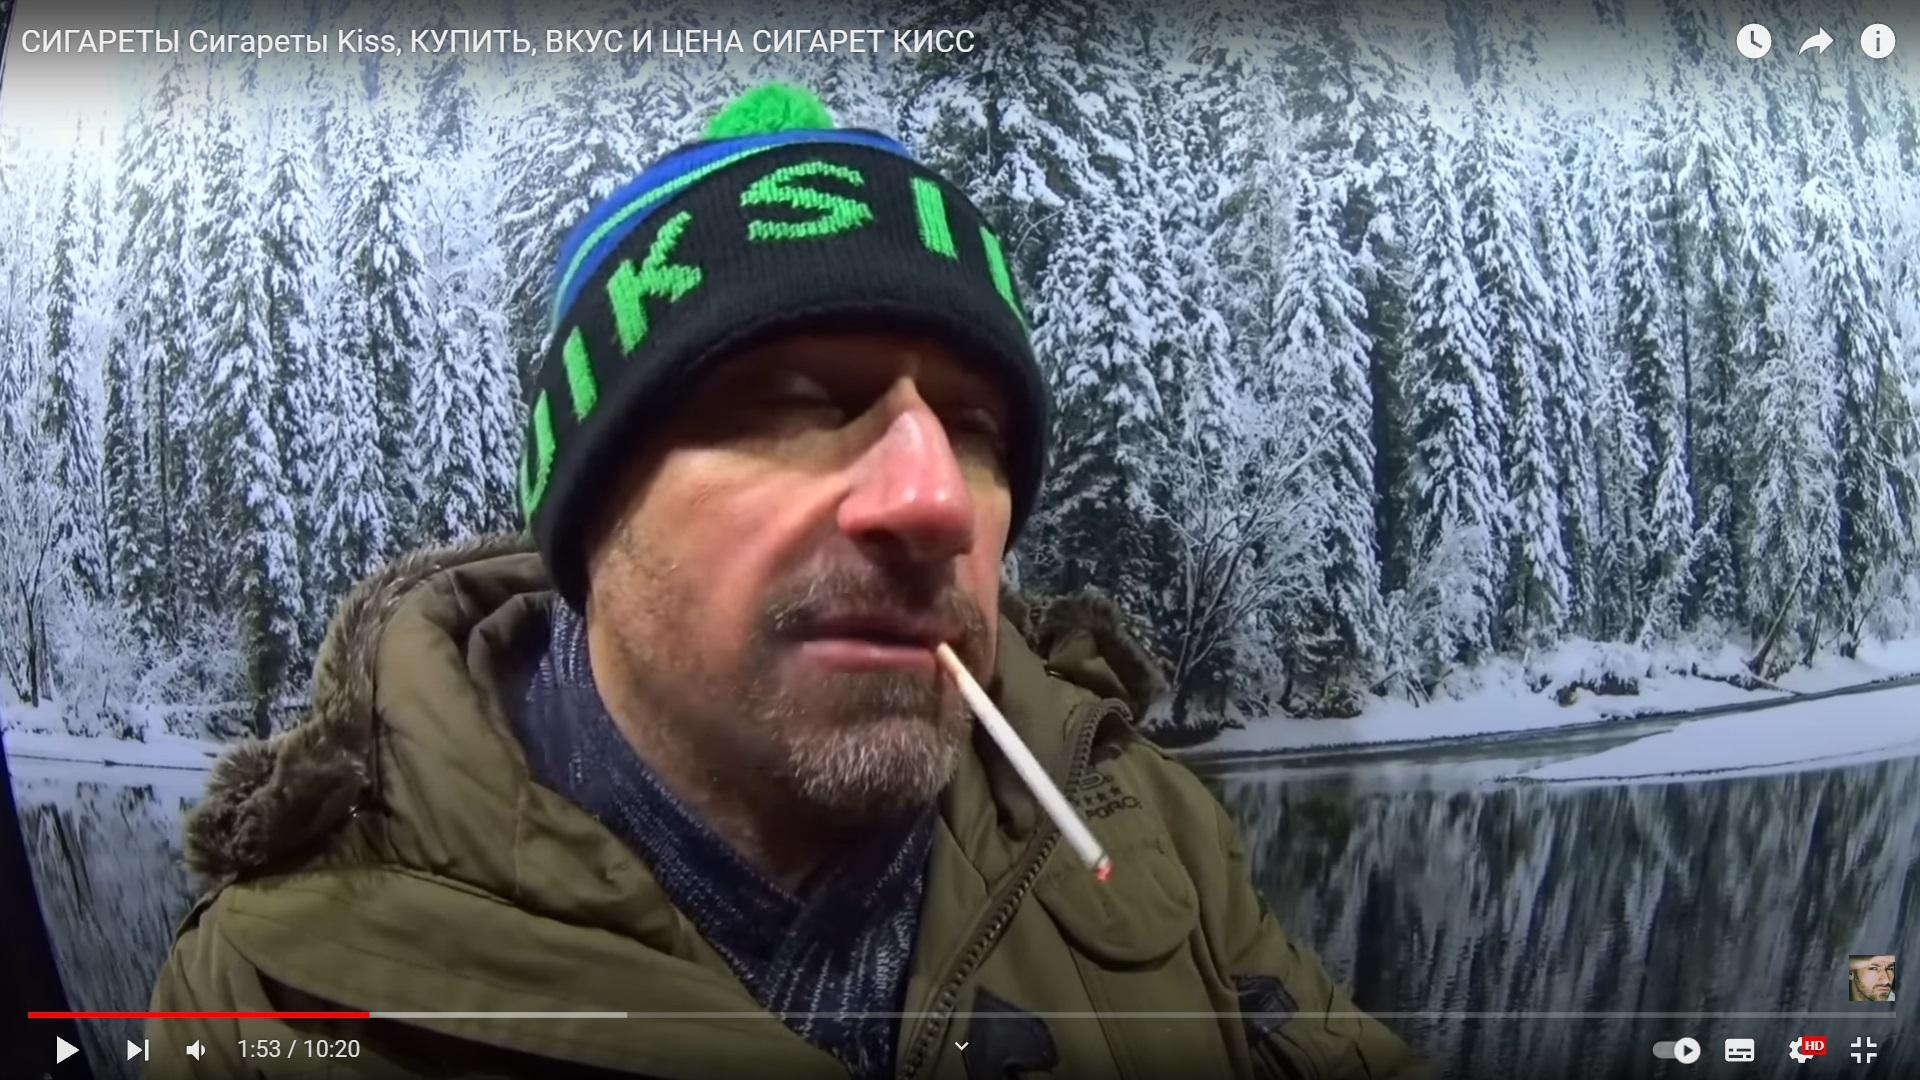cigarette: (926, 640, 1112, 881)
